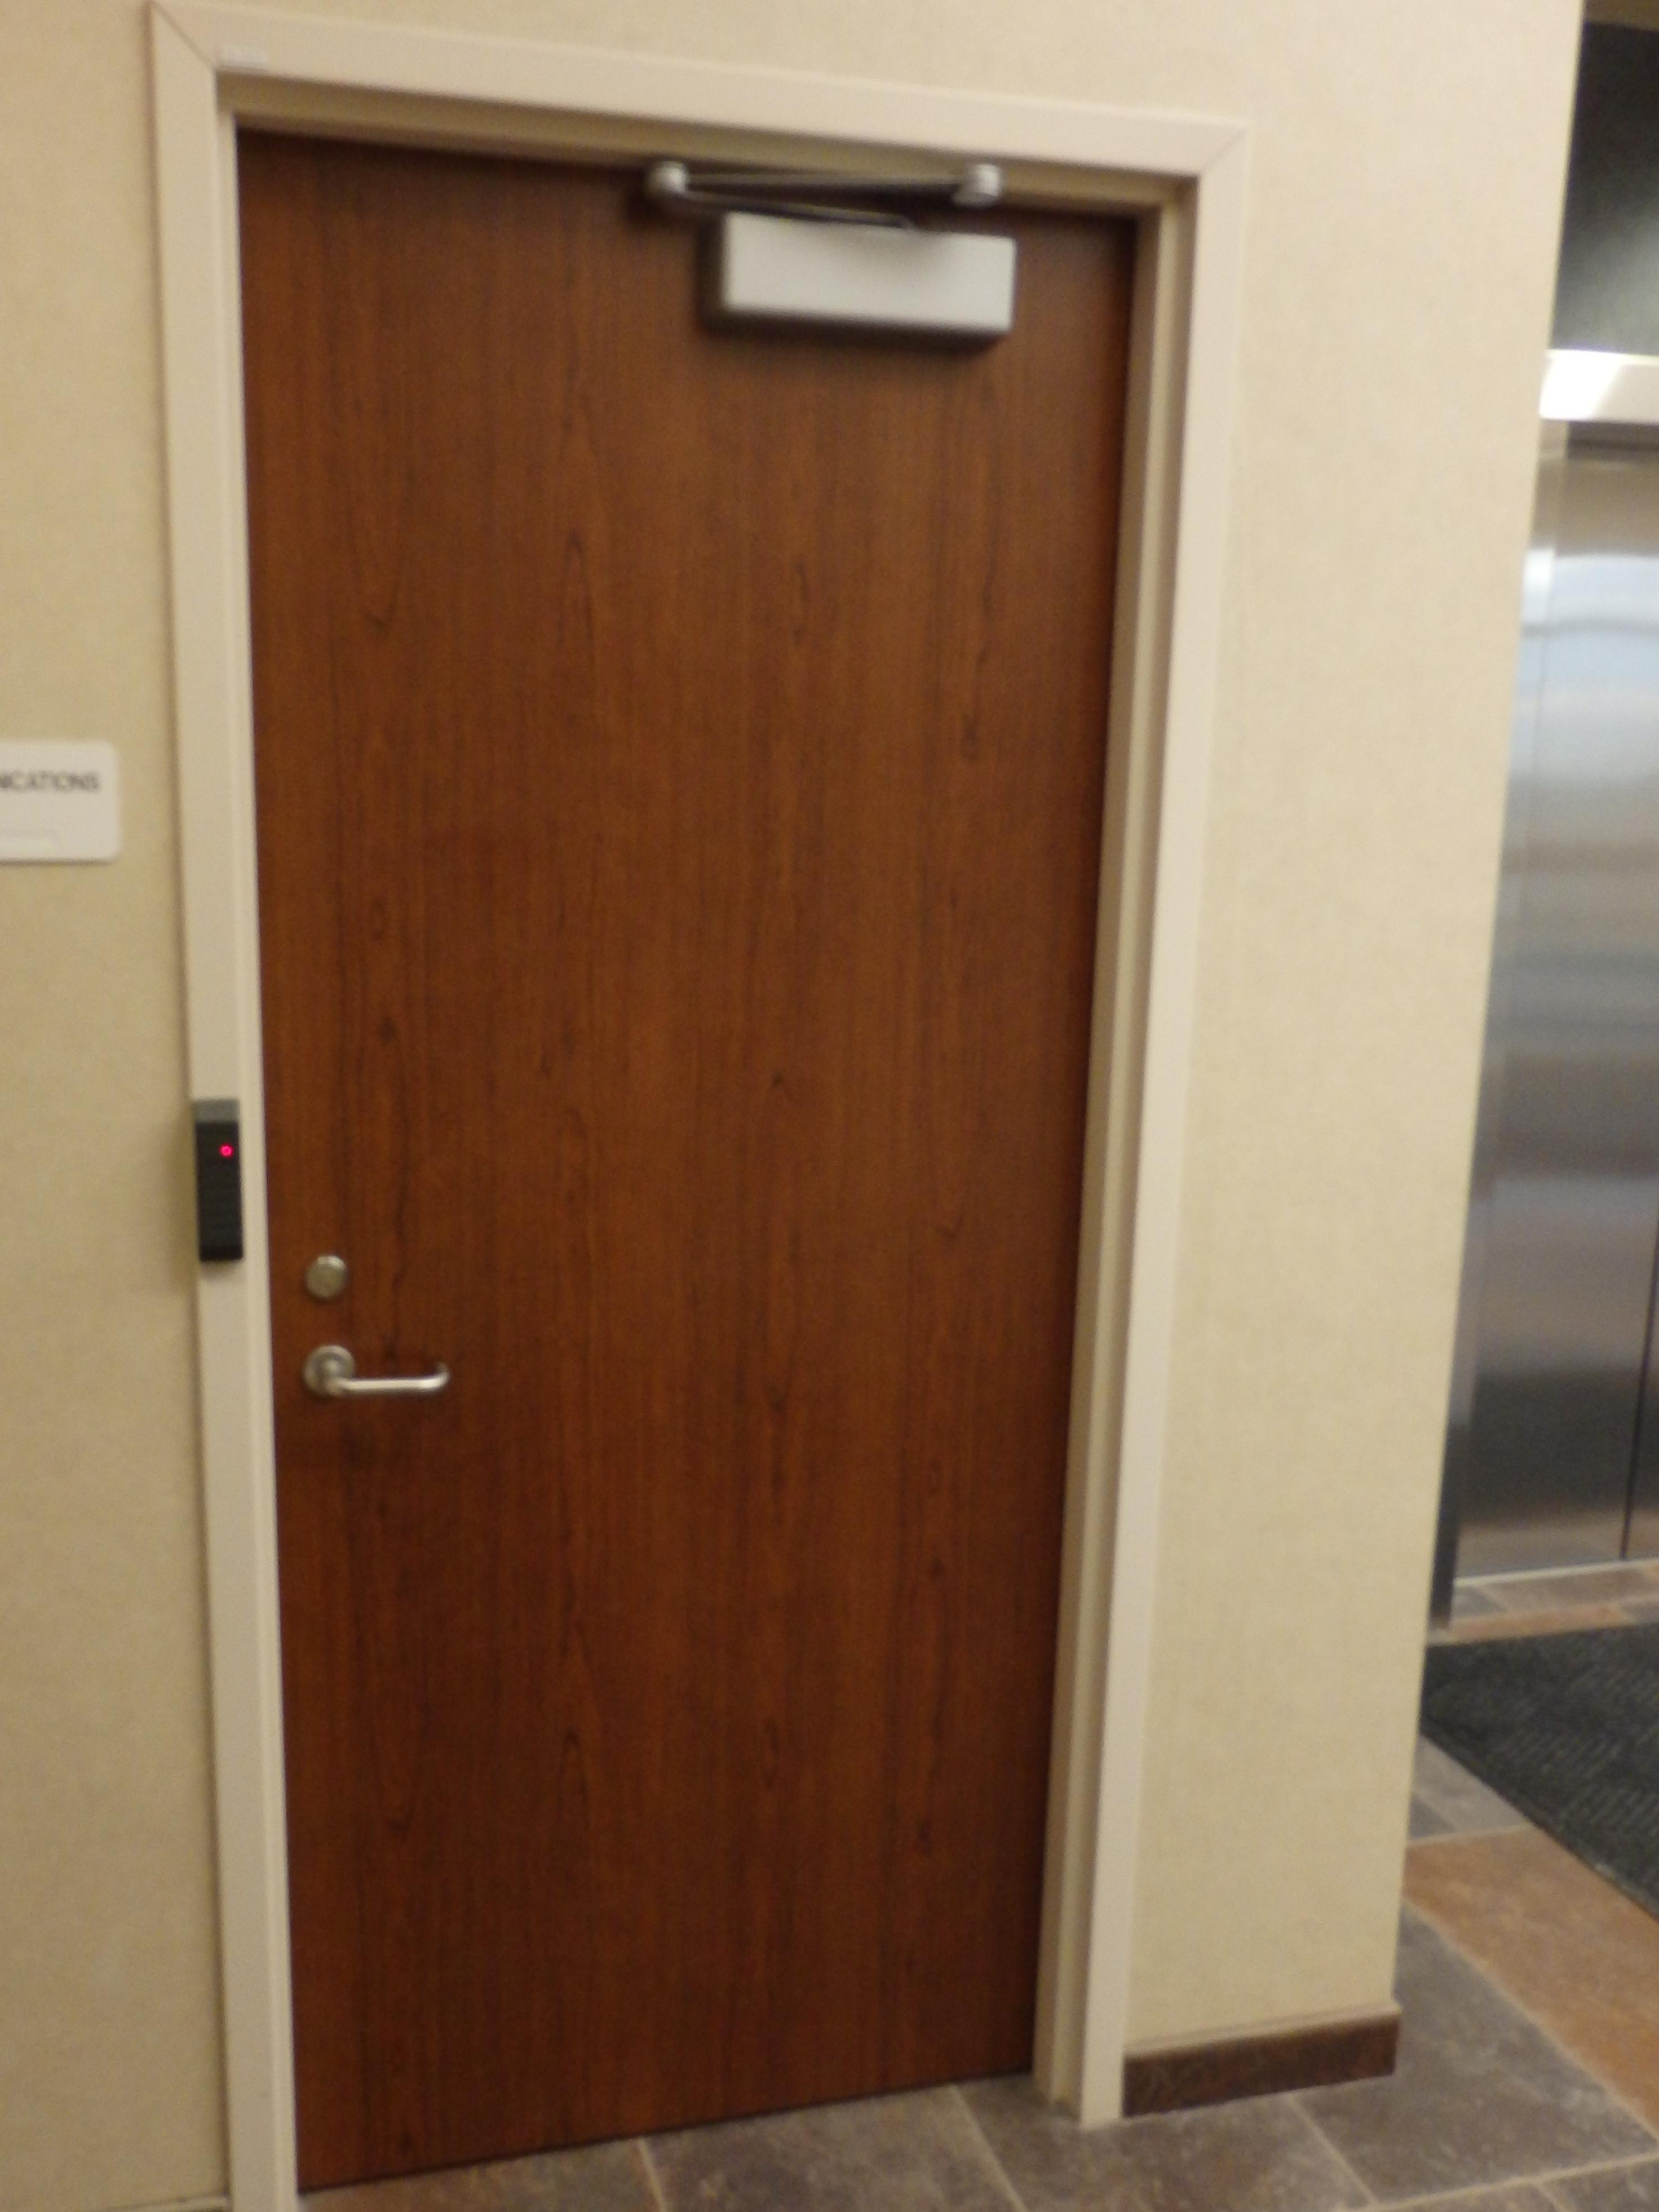door: (204, 85, 1162, 2188)
